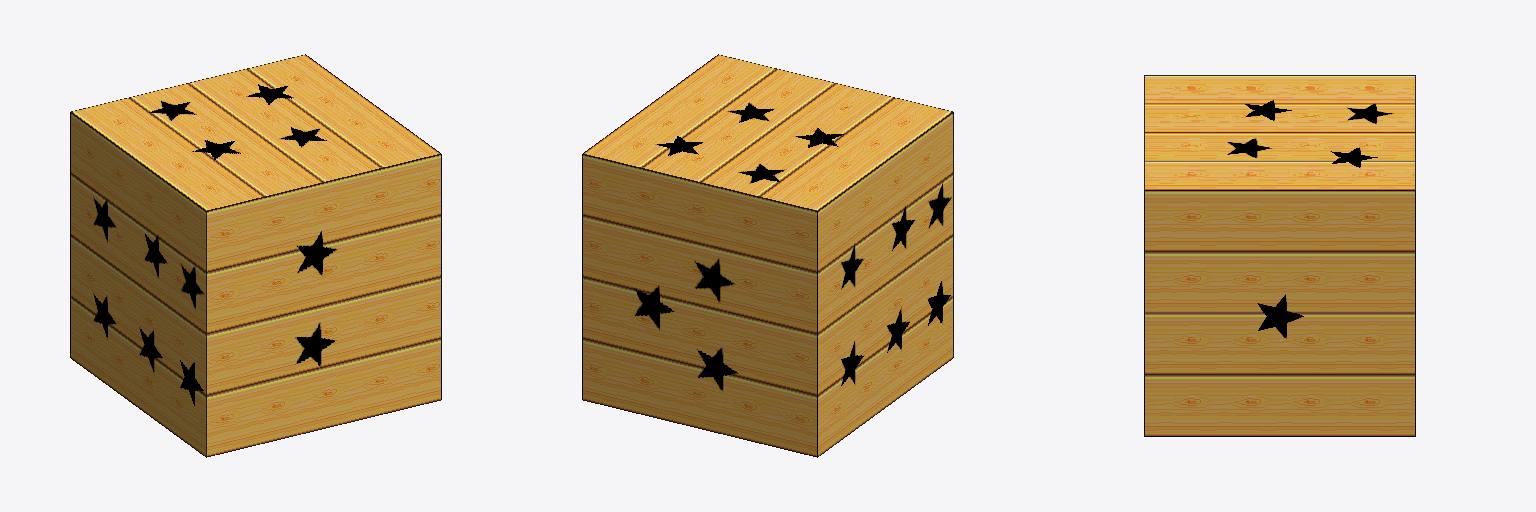
3 renders of one model, left to right at view 1: azimuth 30°, elevation 25°; view 2: azimuth 150°, elevation 25°; view 3: azimuth 270°, elevation 25°, orthographic.
Parts seen in each view (by area): view 1: 立方体.001; view 2: 立方体.001; view 3: 立方体.001.
Boxes of the visible parts, box(x1,y1,x2,y2) form: 立方体.001: box(70, 54, 441, 457); 立方体.001: box(582, 54, 953, 457); 立方体.001: box(1144, 75, 1415, 436).
Bounding box in the file's own units: 2 × 2 × 2.
1 materials, 1 textured.